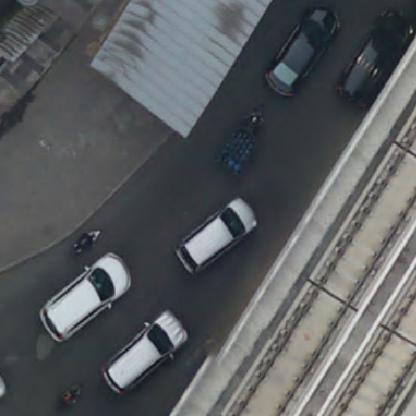Car: (35, 253, 134, 341), (342, 3, 414, 106), (102, 311, 189, 395), (265, 5, 339, 100), (168, 200, 256, 268)
Motorcycle: (238, 98, 270, 141), (51, 380, 86, 410), (69, 230, 103, 254)
